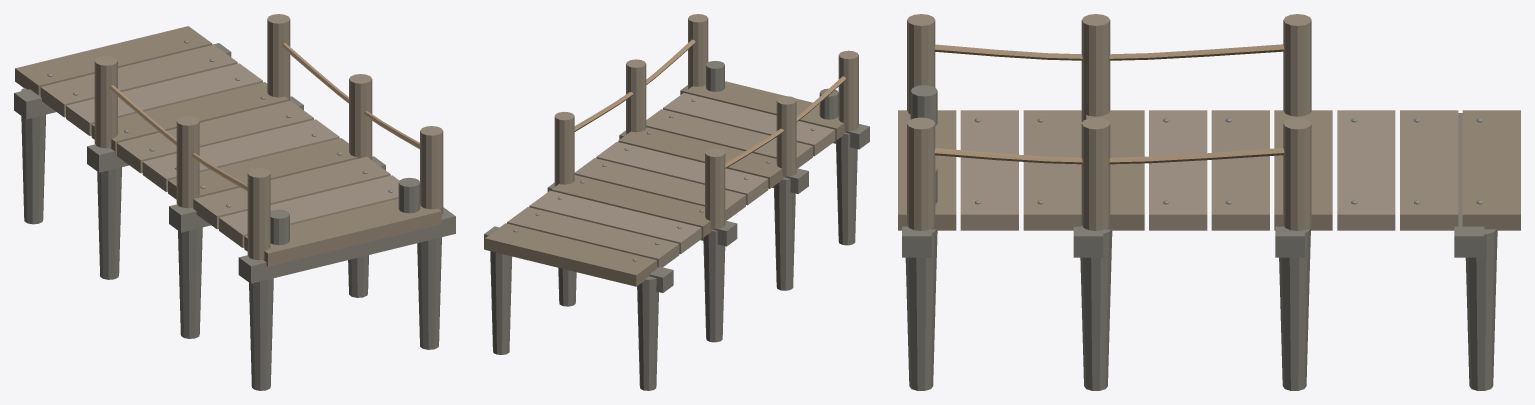
The model's file is dock_ruined.glb.
3 renders of one model, left to right at view 1: azimuth 30°, elevation 25°; view 2: azimuth 150°, elevation 25°; view 3: azimuth 270°, elevation 25°, orthographic. The views are drawn at different scales.
Parts seen in each view (by area): view 1: Dock_Ruined_Plank_10, Dock_Ruined_Plank_01, Dock_Ruined_Plank_08, Dock_Ruined_Plank_02, Dock_Ruined_Plank_05, Dock_Ruined_Plank_06, Dock_Ruined_Plank_03, Dock_Ruined_Plank_04, Dock_Ruined_Plank_09, Dock_Ruined_Plank_07, Dock_Ruined_Crossbeam_4, Dock_Ruined_Support_-1_4 (+18 smaller); view 2: Dock_Ruined_Plank_01, Dock_Ruined_Plank_03, Dock_Ruined_Plank_02, Dock_Ruined_Plank_04, Dock_Ruined_Plank_06, Dock_Ruined_Plank_09, Dock_Ruined_Plank_05, Dock_Ruined_Plank_08, Dock_Ruined_Plank_07, Dock_Ruined_Plank_10, Dock_Ruined_Support_-1_1, Dock_Ruined_Support_-1_3 (+18 smaller); view 3: Dock_Ruined_Plank_03, Dock_Ruined_Plank_02, Dock_Ruined_Plank_01, Dock_Ruined_Plank_06, Dock_Ruined_Plank_09, Dock_Ruined_Plank_05, Dock_Ruined_Plank_08, Dock_Ruined_Plank_07, Dock_Ruined_Support_1_1, Dock_Ruined_Support_1_3, Dock_Ruined_Support_1_4, Dock_Ruined_Support_1_2 (+15 smaller).
Boxes of the visible parts, x1,y1,x2,y2 form: Dock_Ruined_Plank_10: (244, 198, 441, 266); Dock_Ruined_Plank_01: (15, 26, 212, 95); Dock_Ruined_Plank_08: (193, 156, 390, 229); Dock_Ruined_Plank_02: (40, 44, 237, 117); Dock_Ruined_Plank_05: (117, 100, 313, 173); Dock_Ruined_Plank_06: (142, 119, 339, 191); Dock_Ruined_Plank_03: (66, 63, 262, 135); Dock_Ruined_Plank_04: (91, 82, 288, 154); Dock_Ruined_Plank_09: (219, 175, 399, 247); Dock_Ruined_Plank_07: (168, 138, 357, 199); Dock_Ruined_Crossbeam_4: (238, 207, 455, 283); Dock_Ruined_Support_-1_4: (249, 278, 273, 390); Dock_Ruined_Plank_01: (485, 223, 656, 286); Dock_Ruined_Plank_03: (529, 190, 701, 253); Dock_Ruined_Plank_02: (507, 207, 679, 267); Dock_Ruined_Plank_04: (551, 175, 712, 237); Dock_Ruined_Plank_06: (596, 142, 768, 205); Dock_Ruined_Plank_09: (663, 93, 835, 156); Dock_Ruined_Plank_05: (574, 158, 745, 220); Dock_Ruined_Plank_08: (646, 109, 812, 168); Dock_Ruined_Plank_07: (618, 127, 784, 188); Dock_Ruined_Plank_10: (685, 81, 845, 139); Dock_Ruined_Support_-1_1: (637, 276, 658, 390); Dock_Ruined_Support_-1_3: (774, 177, 795, 290); Dock_Ruined_Plank_03: (1337, 110, 1395, 230); Dock_Ruined_Plank_02: (1400, 110, 1458, 230); Dock_Ruined_Plank_01: (1462, 110, 1520, 230); Dock_Ruined_Plank_06: (1149, 110, 1207, 230); Dock_Ruined_Plank_09: (960, 110, 1018, 230); Dock_Ruined_Plank_05: (1211, 110, 1269, 230); Dock_Ruined_Plank_08: (1023, 110, 1081, 230); Dock_Ruined_Plank_07: (1086, 110, 1144, 230); Dock_Ruined_Support_1_1: (1465, 229, 1497, 390); Dock_Ruined_Support_1_3: (1080, 229, 1112, 390); Dock_Ruined_Support_1_4: (905, 229, 937, 390); Dock_Ruined_Support_1_2: (1279, 229, 1310, 390).
Bounding box in the file's own units: 1.95 × 1.95 × 4.17.
